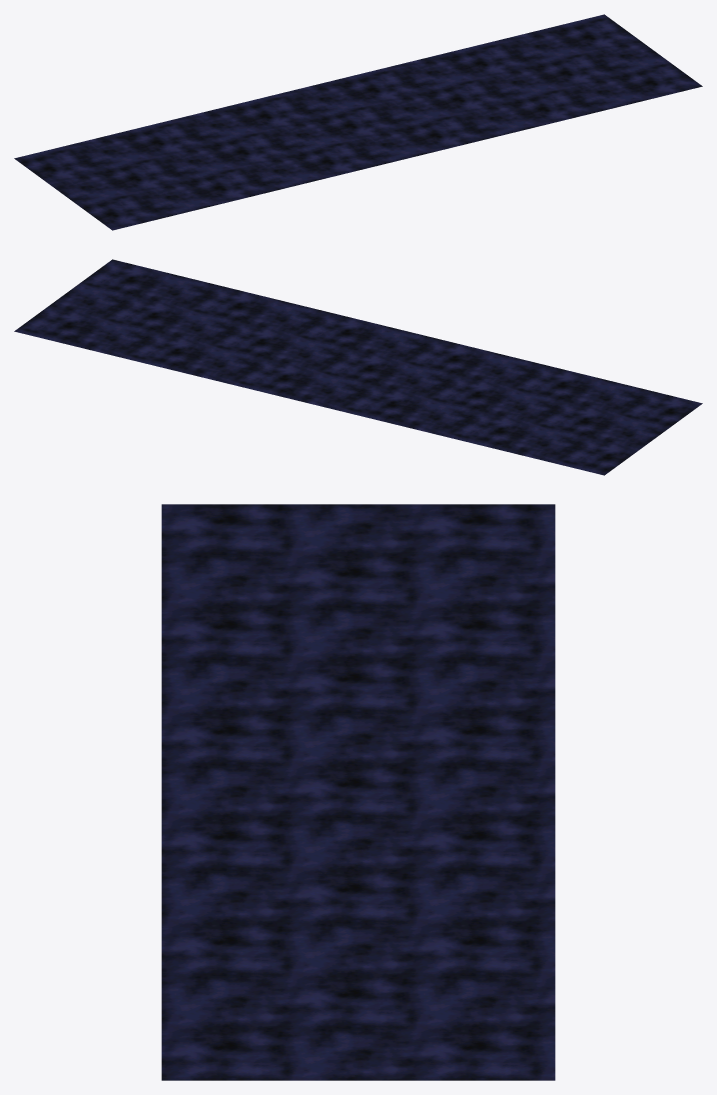
The model's file is OVERHILL_A_01_FOG_PLANE_END_02.fbx.
The picture shows the model from 3 angles, top to bottom: view 1: azimuth 30°, elevation 25°; view 2: azimuth 150°, elevation 25°; view 3: azimuth 270°, elevation 25°; orthographic projection. The views are drawn at different scales.
Visible parts, largest first — view 1: OVERHILL_A_01_FOG_PLANE_END_02; view 2: OVERHILL_A_01_FOG_PLANE_END_02; view 3: OVERHILL_A_01_FOG_PLANE_END_02.
Part boxes in pixels (x1=…): OVERHILL_A_01_FOG_PLANE_END_02: x1=14, y1=14, x2=702, y2=230; OVERHILL_A_01_FOG_PLANE_END_02: x1=14, y1=259, x2=702, y2=475; OVERHILL_A_01_FOG_PLANE_END_02: x1=161, y1=504, x2=555, y2=1080.
Bounding box in the file's own units: 1387598 × 0.0653 × 400888.
Materials: 1 (1 with a texture image).
